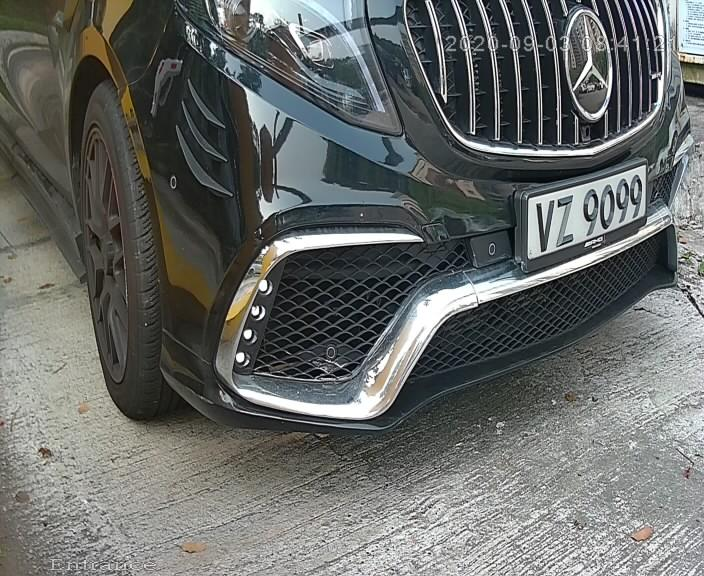Car: (76, 1, 667, 461)
License Plate: (516, 155, 651, 276)
